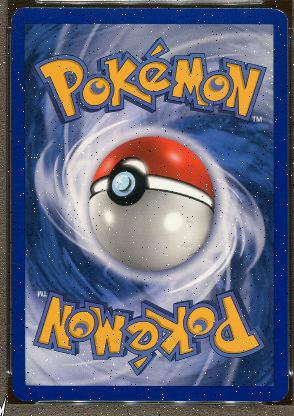Card: (9, 6, 289, 408)
Corner Wear: (272, 9, 284, 16), (269, 396, 282, 402), (10, 10, 16, 22)
Edge Wear: (56, 7, 69, 9)
